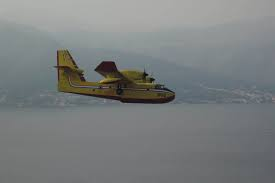plane: (52, 48, 174, 104)
